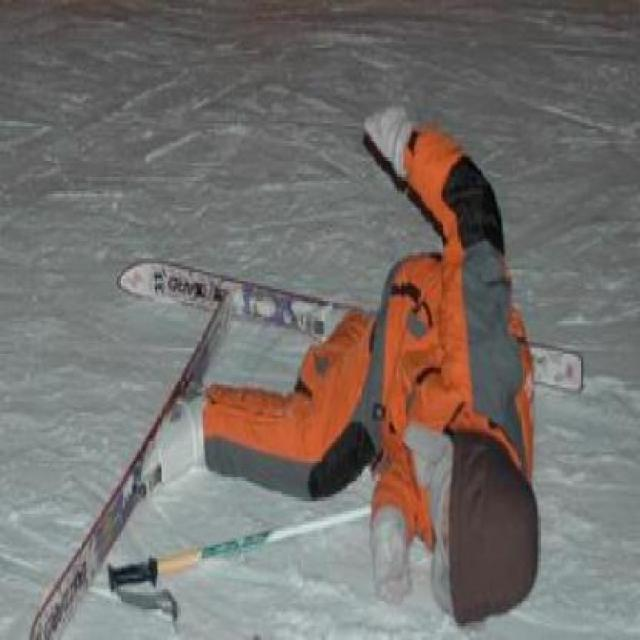fall: (136, 76, 556, 618)
